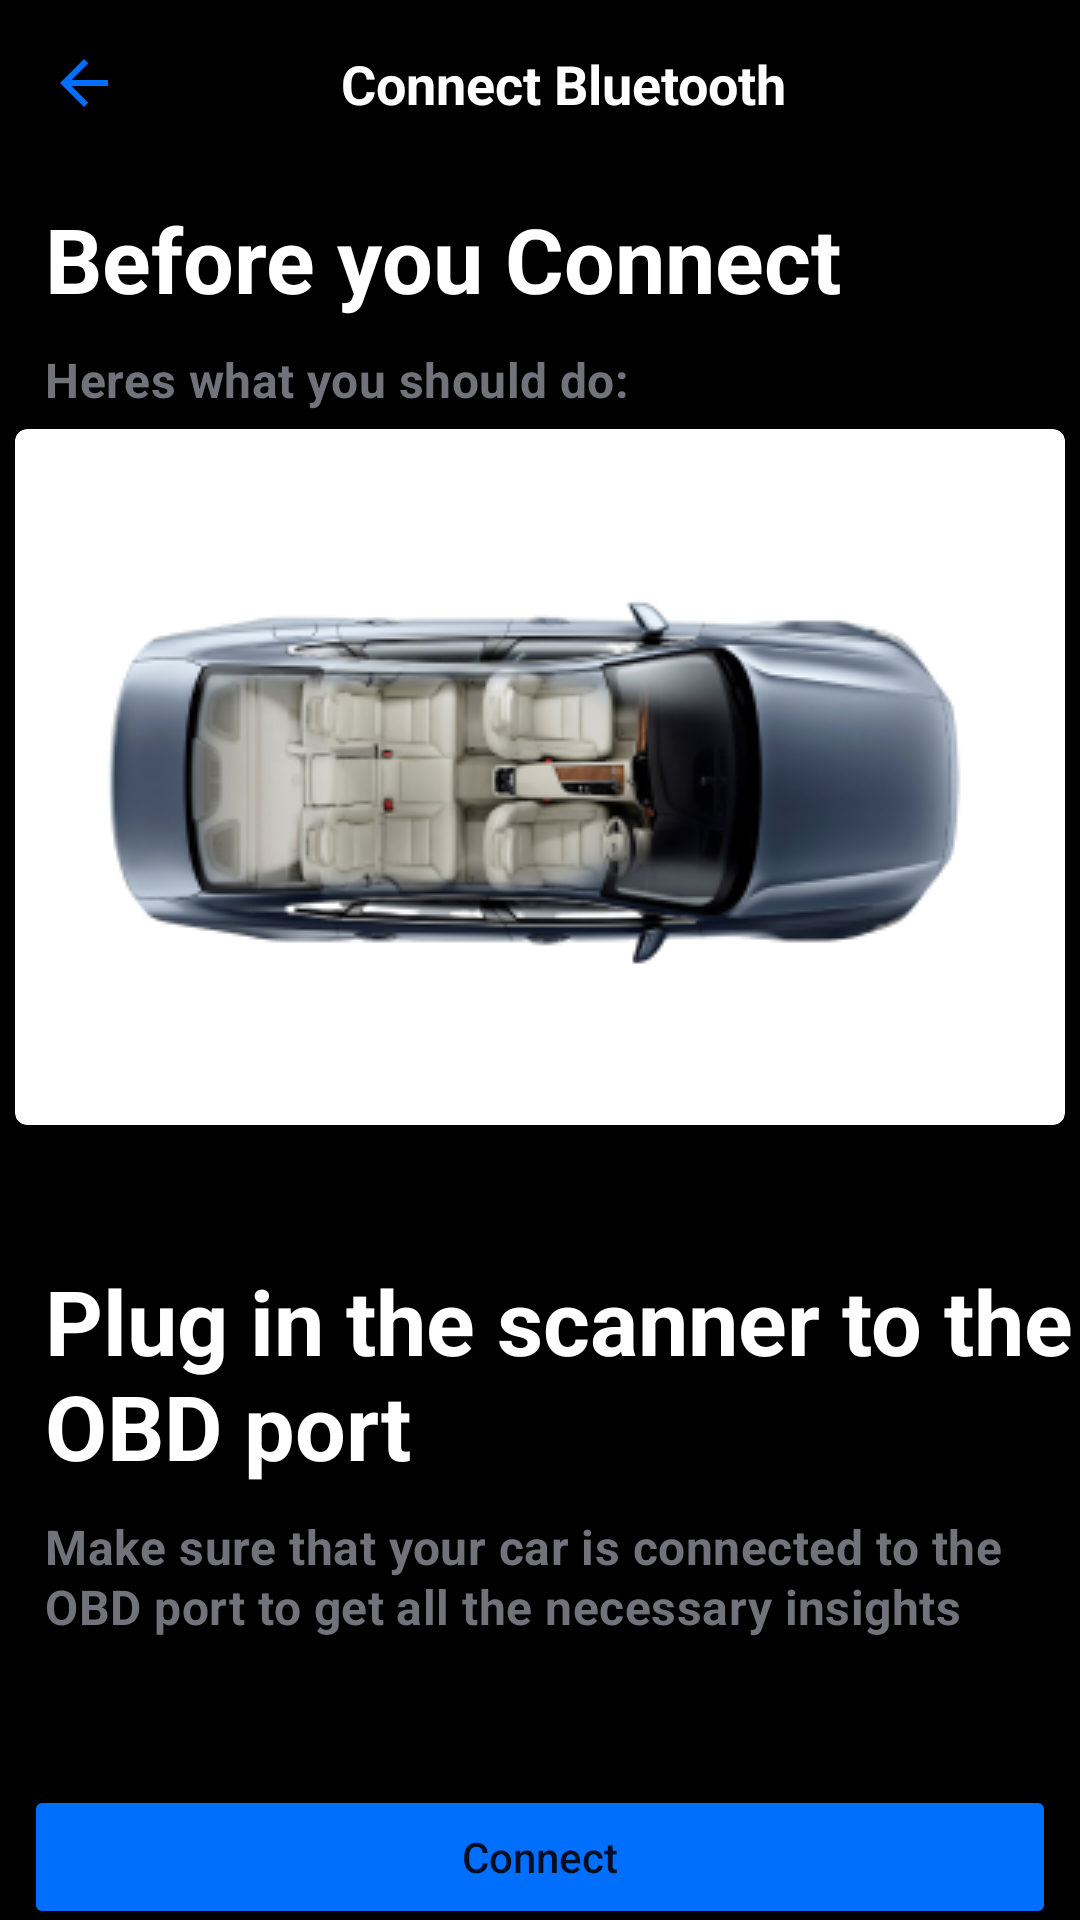

Named icons in this screenshot (1080 x 1920) and their bounding boxes, bbox(x1, y1, x2, y2):
arrow back: bbox(60, 59, 108, 107)
